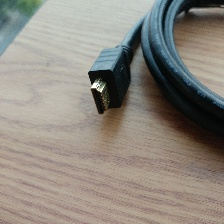hdmi_male: (57, 16, 163, 160)
